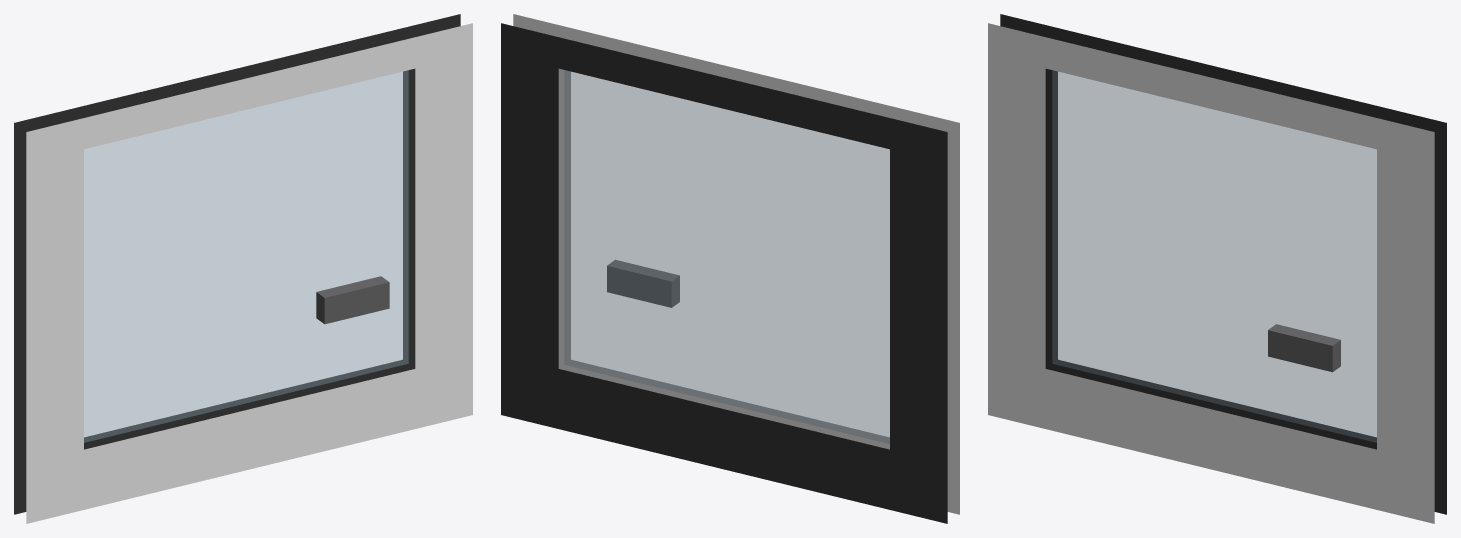
Rendered from door.glb.
3 renders of one model, left to right at view 1: azimuth 30°, elevation 25°; view 2: azimuth 150°, elevation 25°; view 3: azimuth 330°, elevation 25°, orthographic.
Parts seen in each view (by area): view 1: Glass, Paint, Trim; view 2: Glass, Trim, Paint; view 3: Glass, Paint, Trim.
Part boxes in pixels (<box>): Glass: <box>84,70,408,442</box>; Paint: <box>26,23,472,523</box>; Trim: <box>14,14,460,514</box>; Glass: <box>564,70,889,443</box>; Trim: <box>501,23,947,523</box>; Paint: <box>513,14,959,514</box>; Glass: <box>1052,70,1376,442</box>; Paint: <box>988,23,1434,523</box>; Trim: <box>1000,14,1446,514</box>.
Bounding box in the file's own units: 0.62 × 0.52 × 0.052.
